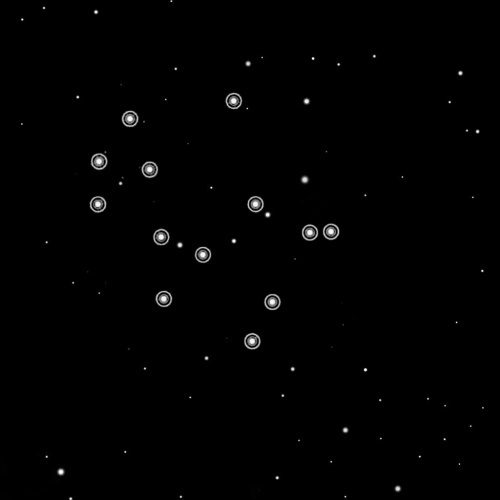gemini: (83, 87, 348, 358)
